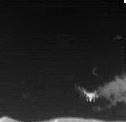Target: (82, 90, 99, 102)
